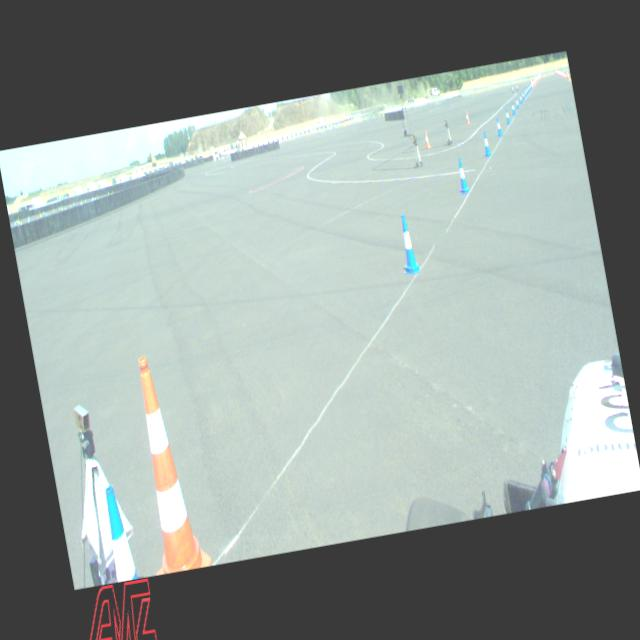blue_cone: (101, 483, 138, 581), (394, 212, 421, 275), (454, 156, 468, 192), (481, 130, 492, 156), (495, 116, 502, 136), (504, 108, 510, 124), (510, 102, 516, 115), (514, 96, 519, 108), (518, 94, 522, 104), (521, 90, 524, 99), (524, 88, 526, 97), (528, 84, 531, 90), (526, 86, 528, 94), (528, 85, 530, 92)
large_orange_cone: (118, 350, 212, 574)
orange_cone: (422, 129, 430, 148), (464, 110, 470, 124)
